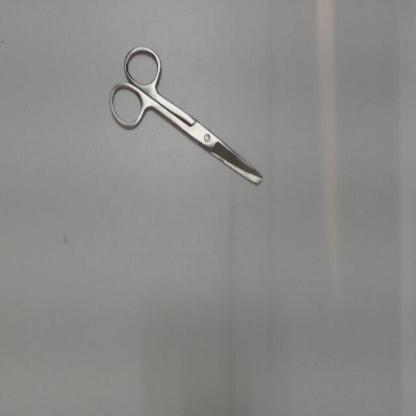Dressing Scissors: (96, 31, 272, 196)
